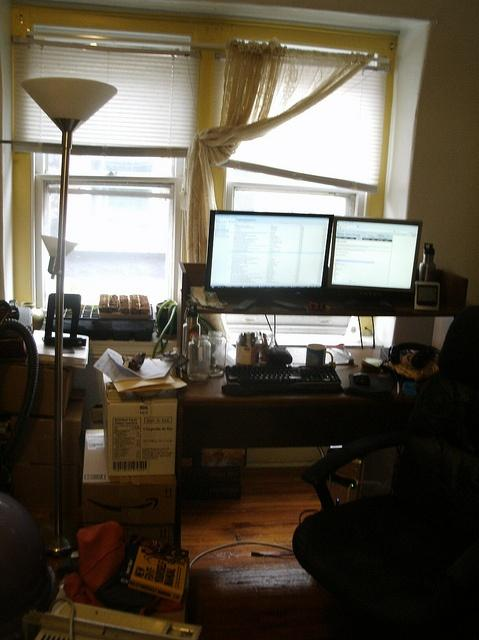AIO PC-Monitor-TV: (204, 209, 333, 308), (325, 215, 423, 293)
